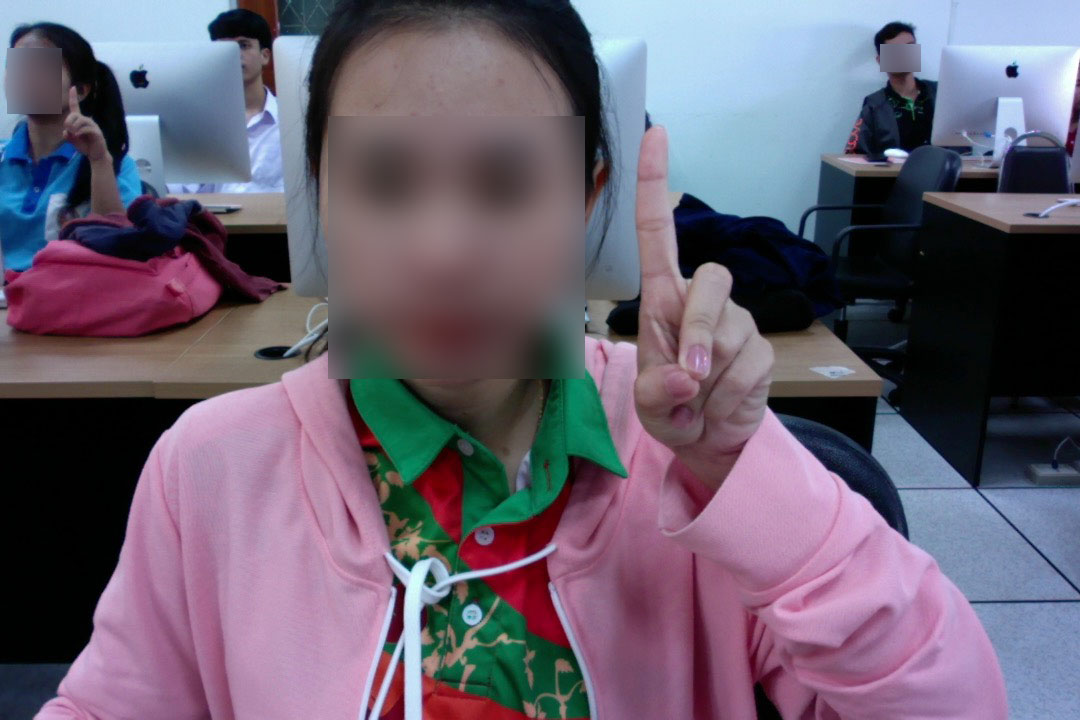dor: (621, 115, 784, 499)
